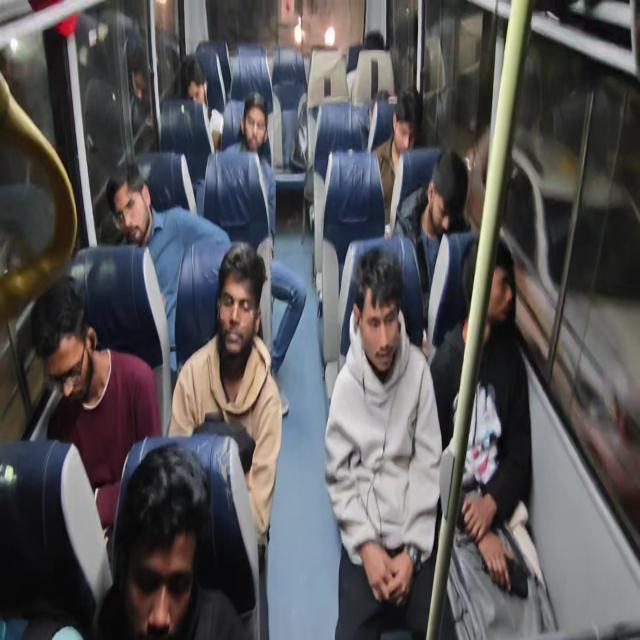person: (103, 479, 241, 640), (174, 240, 314, 394), (10, 266, 93, 418), (429, 247, 514, 375), (338, 254, 411, 369), (100, 154, 161, 256), (396, 104, 454, 187), (429, 149, 472, 248), (226, 96, 274, 162), (171, 54, 205, 127), (362, 82, 391, 134)
